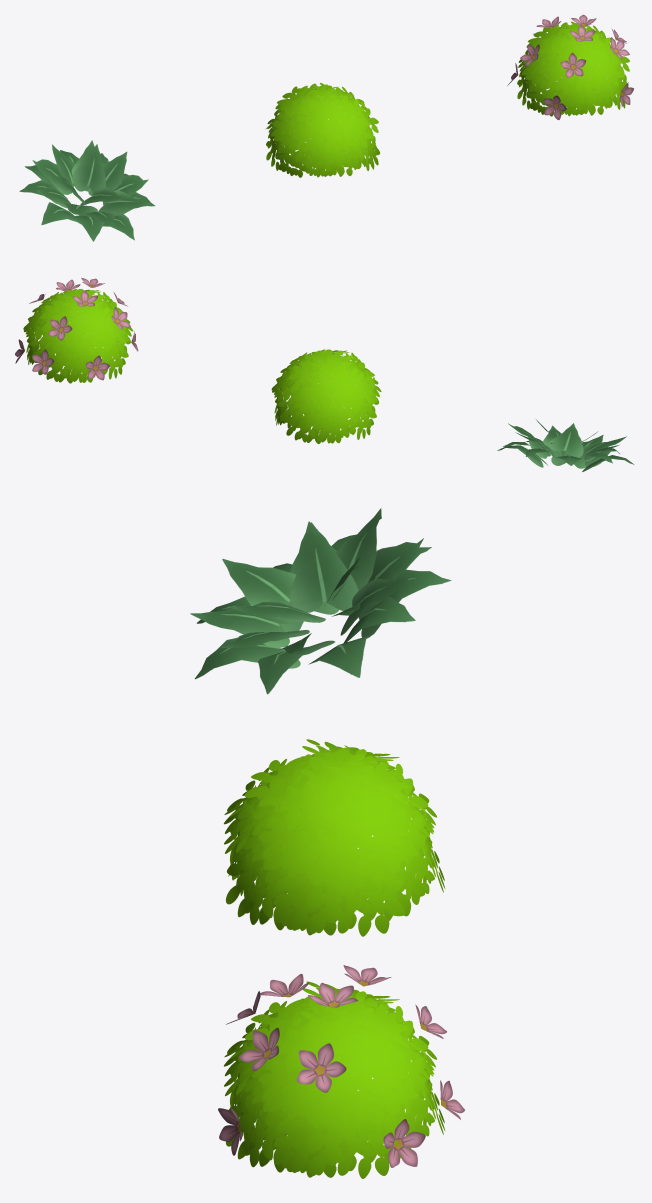
File: Bushes.glb
The picture shows the model from 3 angles, top to bottom: view 1: azimuth 30°, elevation 25°; view 2: azimuth 150°, elevation 25°; view 3: azimuth 270°, elevation 25°; orthographic projection. The views are drawn at different scales.
Visible parts, largest first — view 1: Bush, Plant_1; view 2: Bush, Plant_1; view 3: Bush, Plant_1.
Part boxes in pixels (bbox=[...]): Bush: bbox=[266, 21, 629, 177]; Plant_1: bbox=[19, 14, 633, 241]; Bush: bbox=[23, 289, 381, 443]; Plant_1: bbox=[15, 278, 634, 471]; Bush: bbox=[224, 739, 445, 1178]; Plant_1: bbox=[190, 508, 464, 1167].
Size of the model in its own units: 6.03 by 0.7974 by 1.23.
2 materials, 2 textured.
